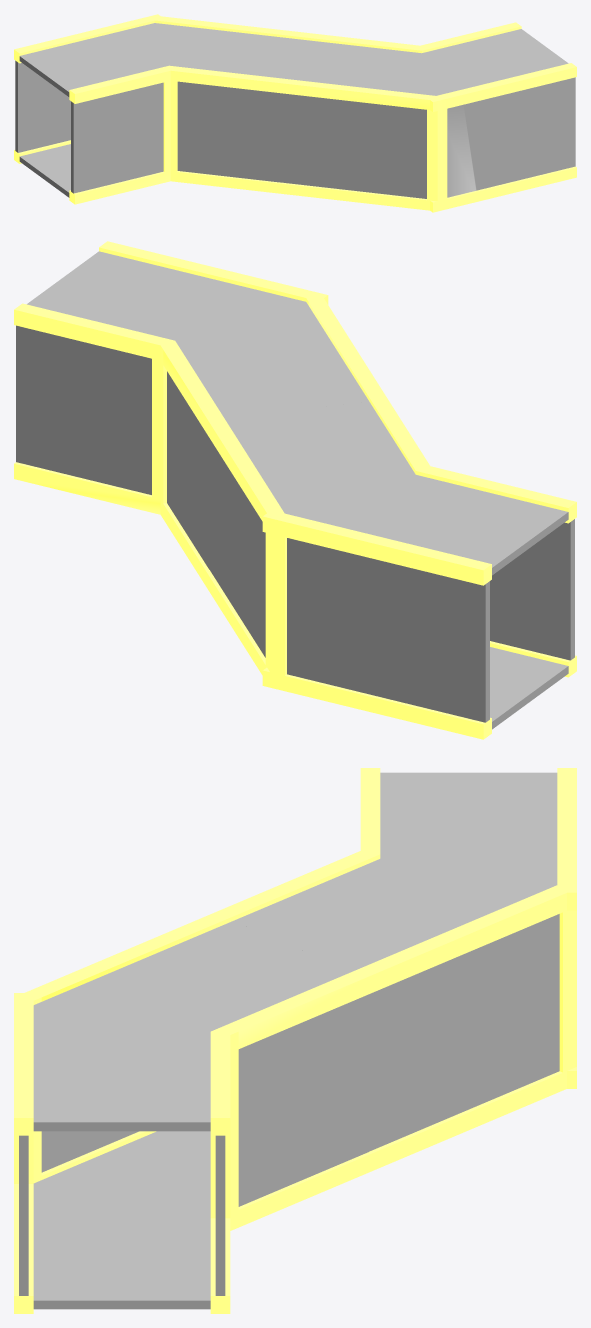
3 views of the same model, one above another, from view 1: azimuth 30°, elevation 25°; view 2: azimuth 150°, elevation 25°; view 3: azimuth 270°, elevation 25° (orthographic). The views are drawn at different scales.
Visible parts, largest first — view 1: wall, light; view 2: wall, light; view 3: wall, light.
Part boxes in pixels (left/top/right/bottom): wall: left=15, top=23, right=575, bottom=198; light: left=14, top=14, right=576, bottom=212; wall: left=16, top=251, right=574, bottom=729; light: left=14, top=241, right=576, bottom=739; wall: left=19, top=772, right=559, bottom=1309; light: left=14, top=768, right=576, bottom=1313.
Size of the model in its own units: 84.16 by 22 by 57.24.
